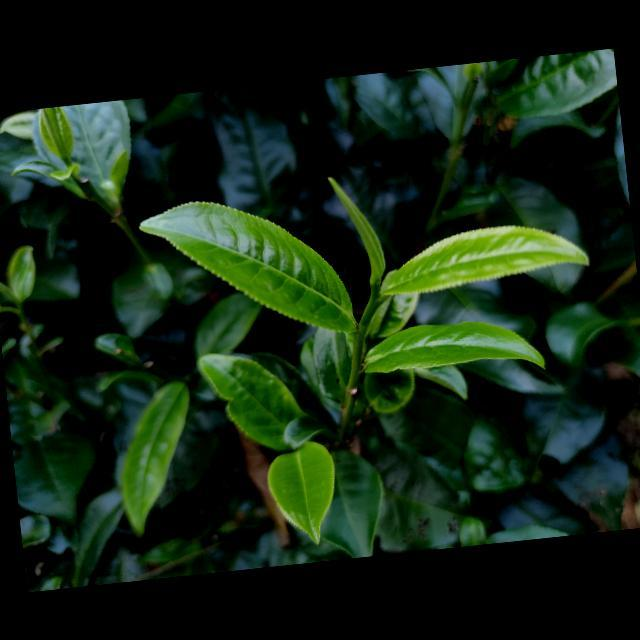Stem: (355, 326, 365, 337)
